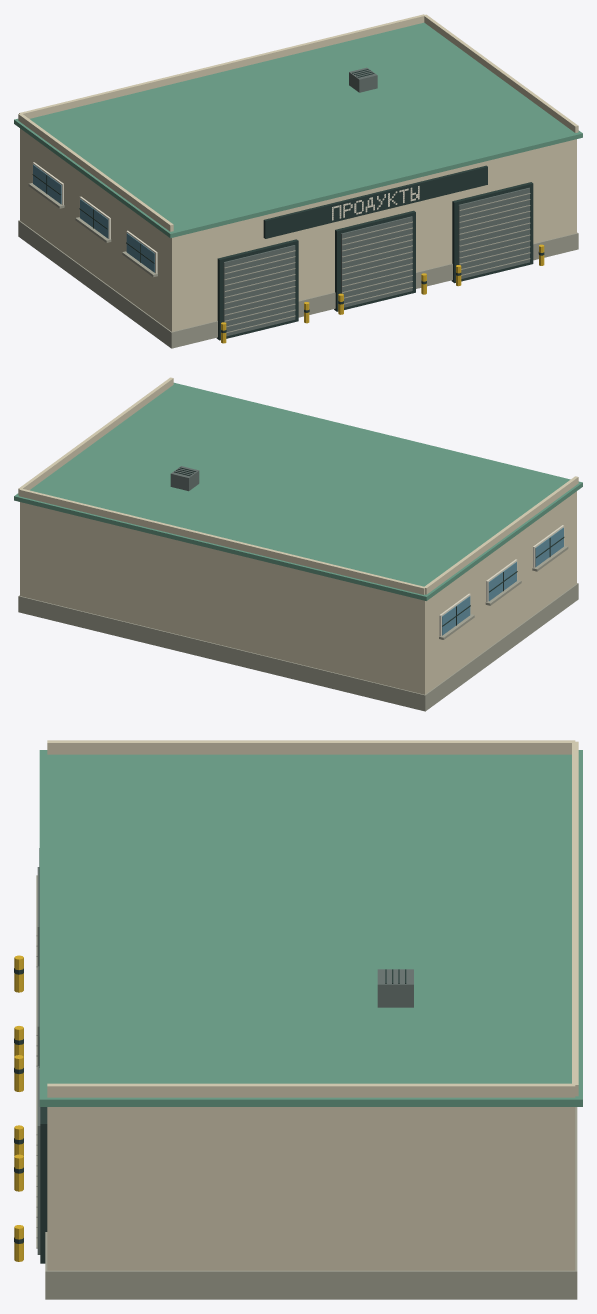
The model's file is WholesaleBase.obj.
3 renders of one model, top to bottom at view 1: azimuth 30°, elevation 25°; view 2: azimuth 150°, elevation 25°; view 3: azimuth 270°, elevation 25°, orthographic. The views are drawn at different scales.
Parts seen in each view (by area): view 1: WholesaleBase; view 2: WholesaleBase; view 3: WholesaleBase.
Boxes of the visible parts, x1,y1,x2,y2 form: WholesaleBase: (14,14,582,348); WholesaleBase: (14,377,582,711); WholesaleBase: (14,740,582,1299).
Size of the model in its own units: 20.44 by 6.26 by 14.01.
